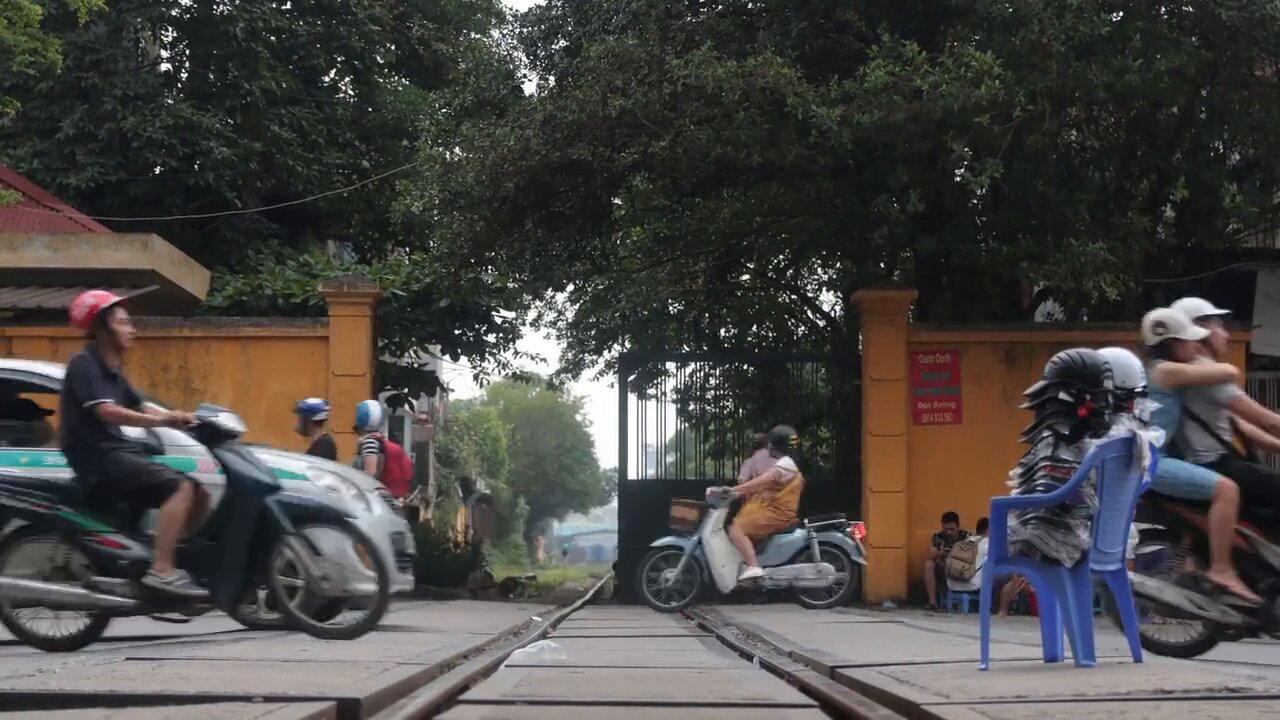driver: (2, 288, 391, 652), (1105, 296, 1280, 658), (636, 424, 869, 615)
helmet: (69, 290, 137, 354), (1169, 296, 1234, 359), (1141, 308, 1211, 364), (291, 398, 332, 438), (353, 400, 386, 435), (768, 425, 799, 459)
